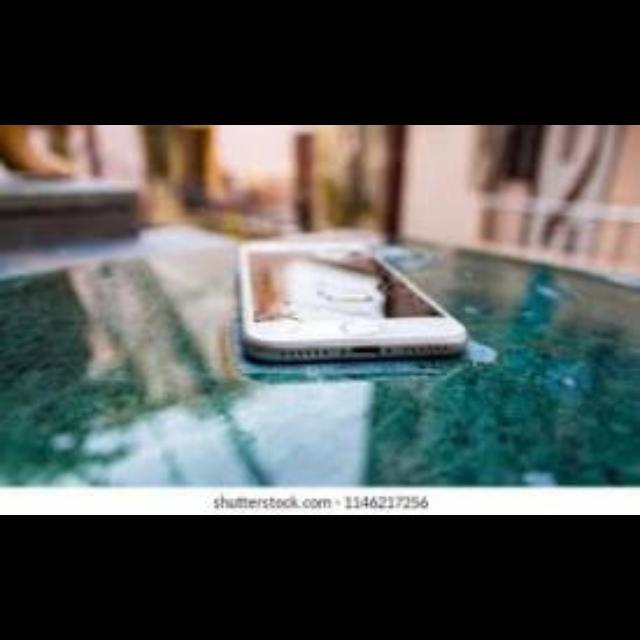Phone: (234, 243, 468, 361)
